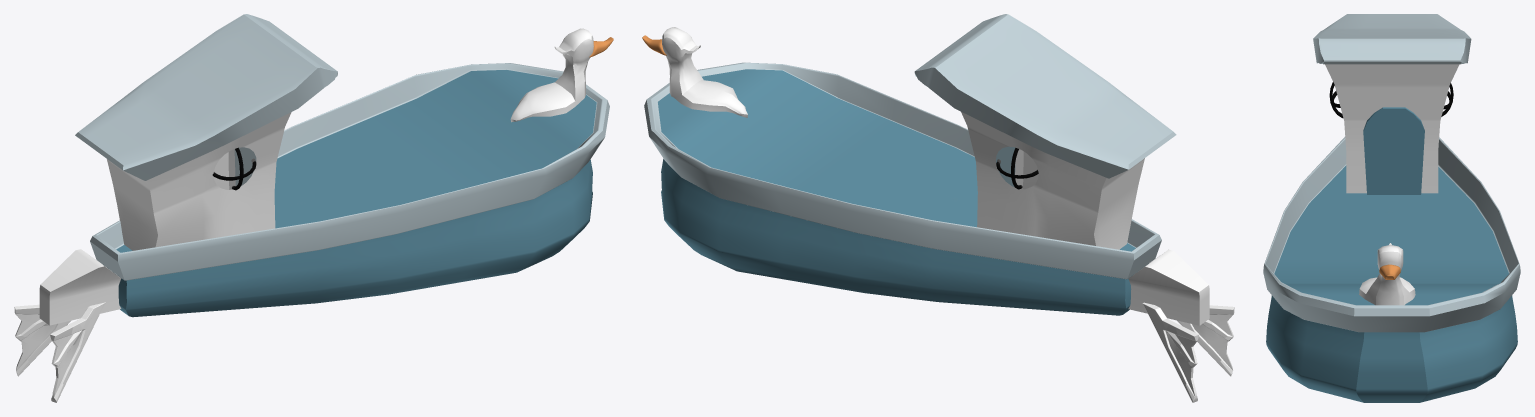
File: Fishing Boat.fbx
3 views of the same model, side by side, from view 1: azimuth 30°, elevation 25°; view 2: azimuth 150°, elevation 25°; view 3: azimuth 270°, elevation 25° (orthographic).
Parts seen in each view (by area): view 1: Boat_Windows1; view 2: Boat_Windows1; view 3: Boat_Windows1.
Part boxes in pixels (x1,y1,x2,y2): Boat_Windows1: (14, 14, 613, 402); Boat_Windows1: (642, 14, 1234, 402); Boat_Windows1: (1263, 14, 1520, 402).
Size of the model in its own units: 1293 by 618 by 500.
